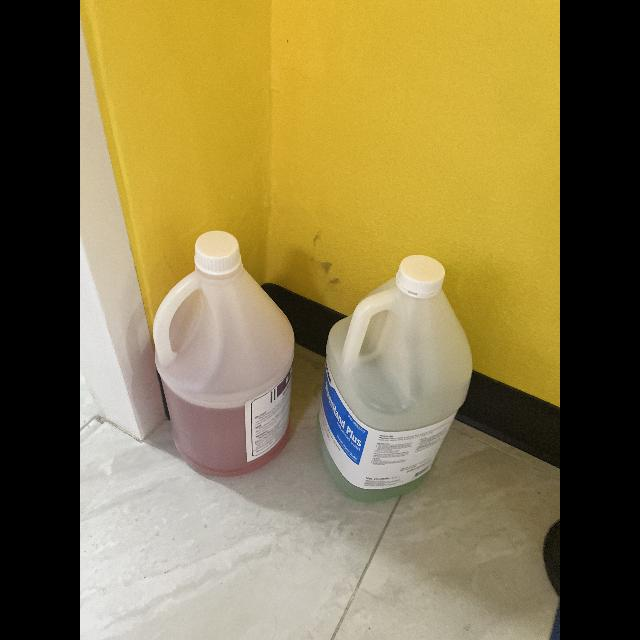chemical_plastic_gallon: (306, 245, 479, 505), (144, 222, 300, 482)
